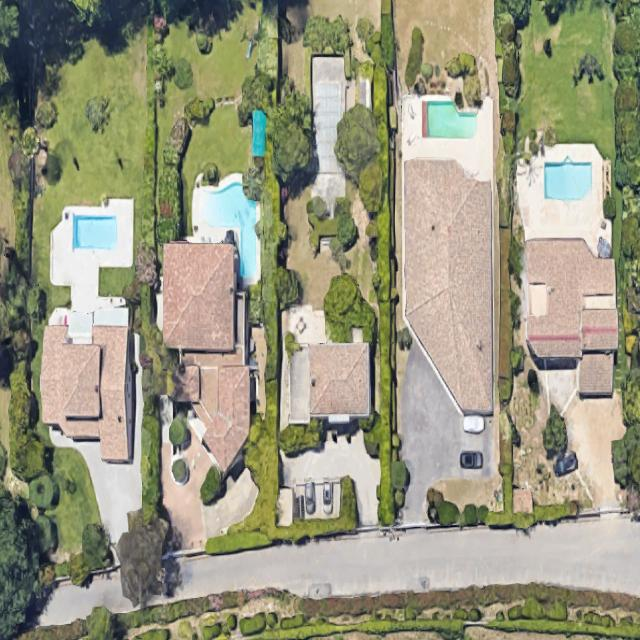maison: (157, 238, 257, 474), (403, 160, 491, 410), (522, 234, 620, 397), (39, 322, 135, 462), (287, 341, 372, 423)
